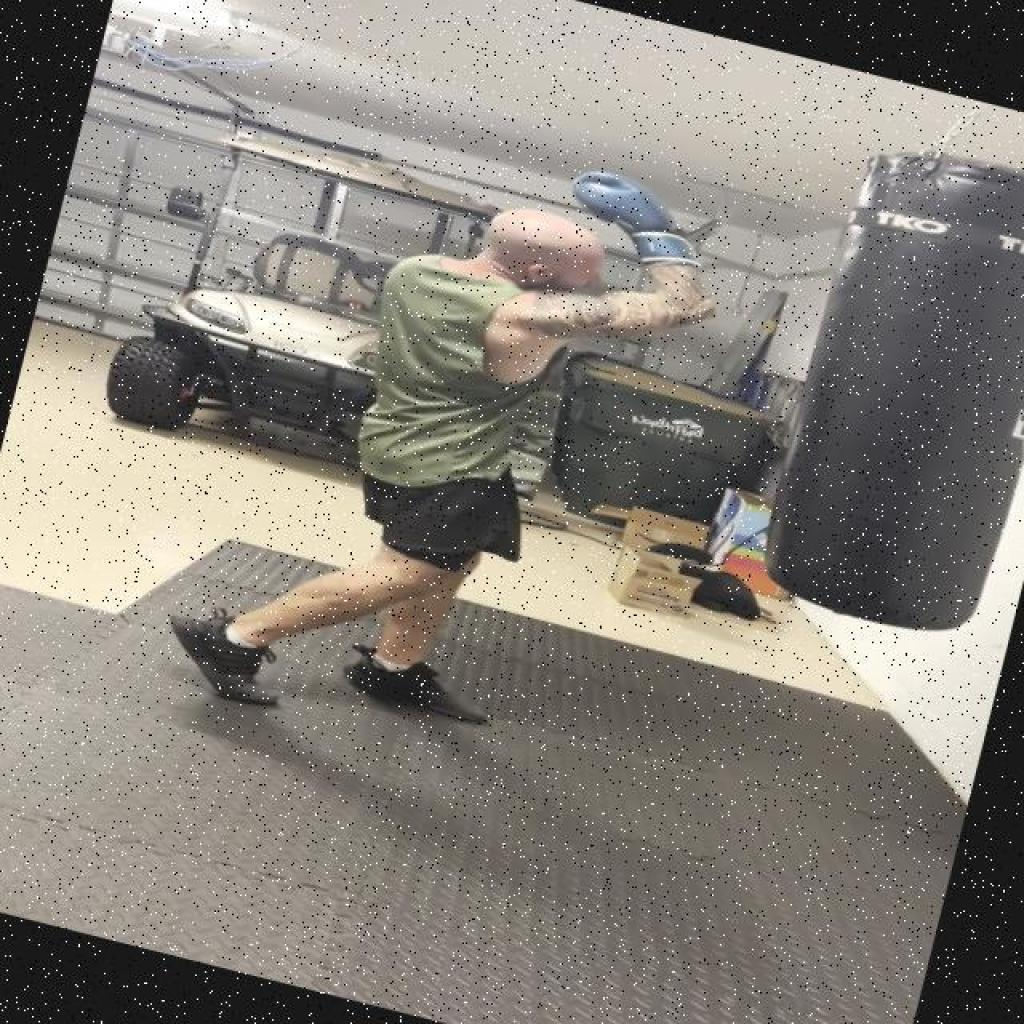bag: (753, 132, 1024, 665)
uppercut: (354, 125, 750, 440)
